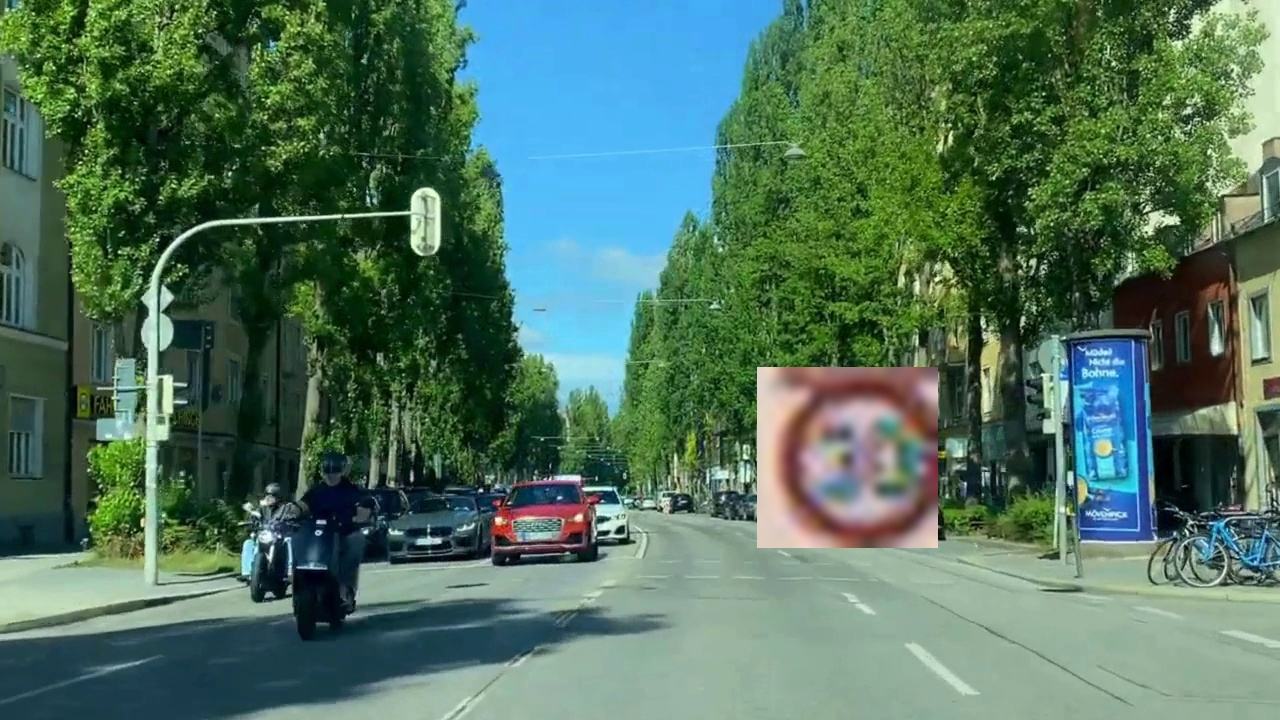Speed 30: (757, 367, 938, 548)
